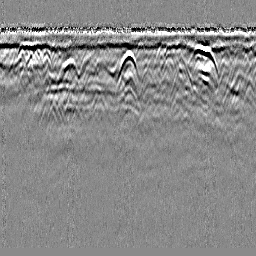cavity: (115, 49, 141, 84)
